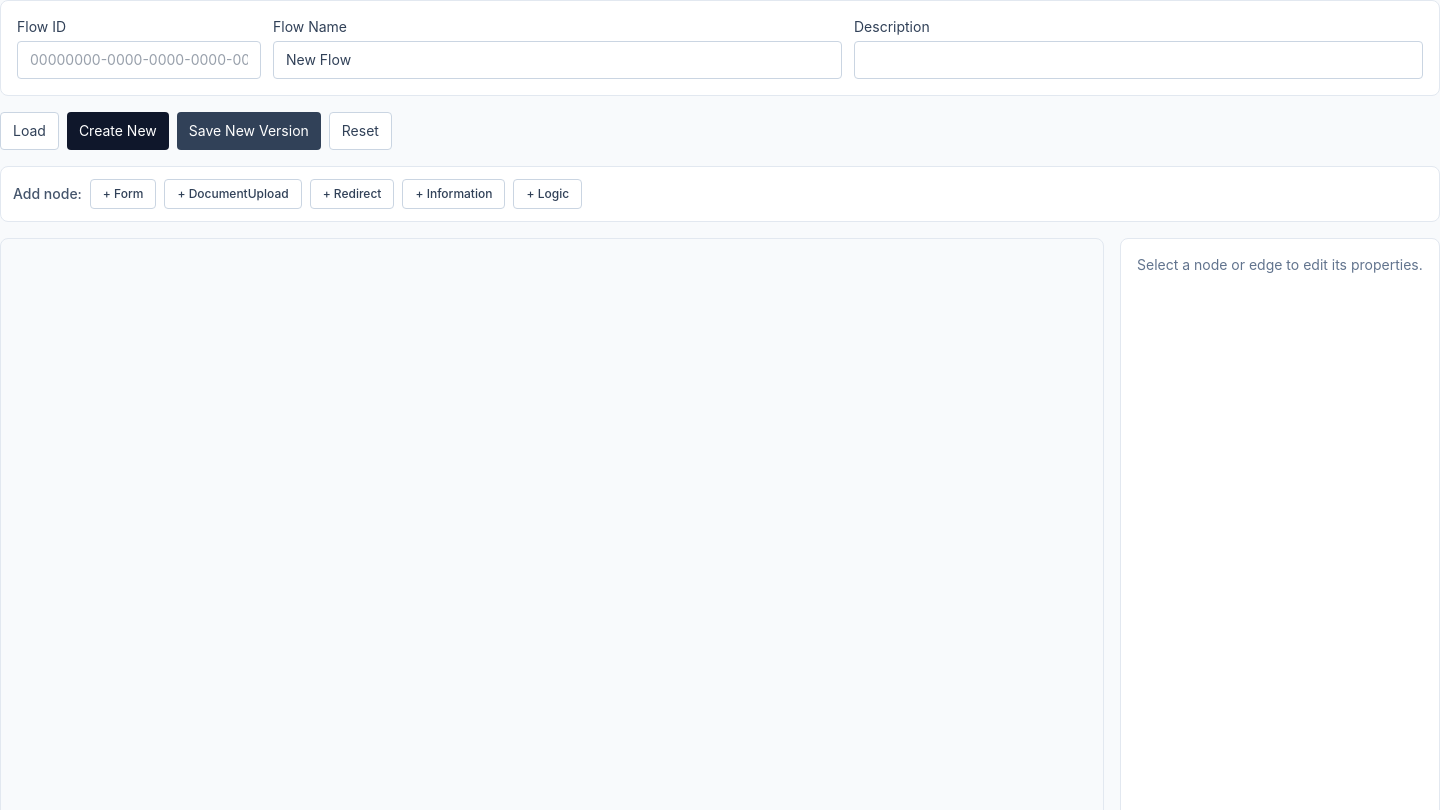
VisualJourneyBuilder › shows error message on load failure
The image size is (1440, 810).
Type "bad-id" into the field with placeholder "00000000-0000-0000-0000-000000000000". click: (139, 60)
box: [17,41,261,79]
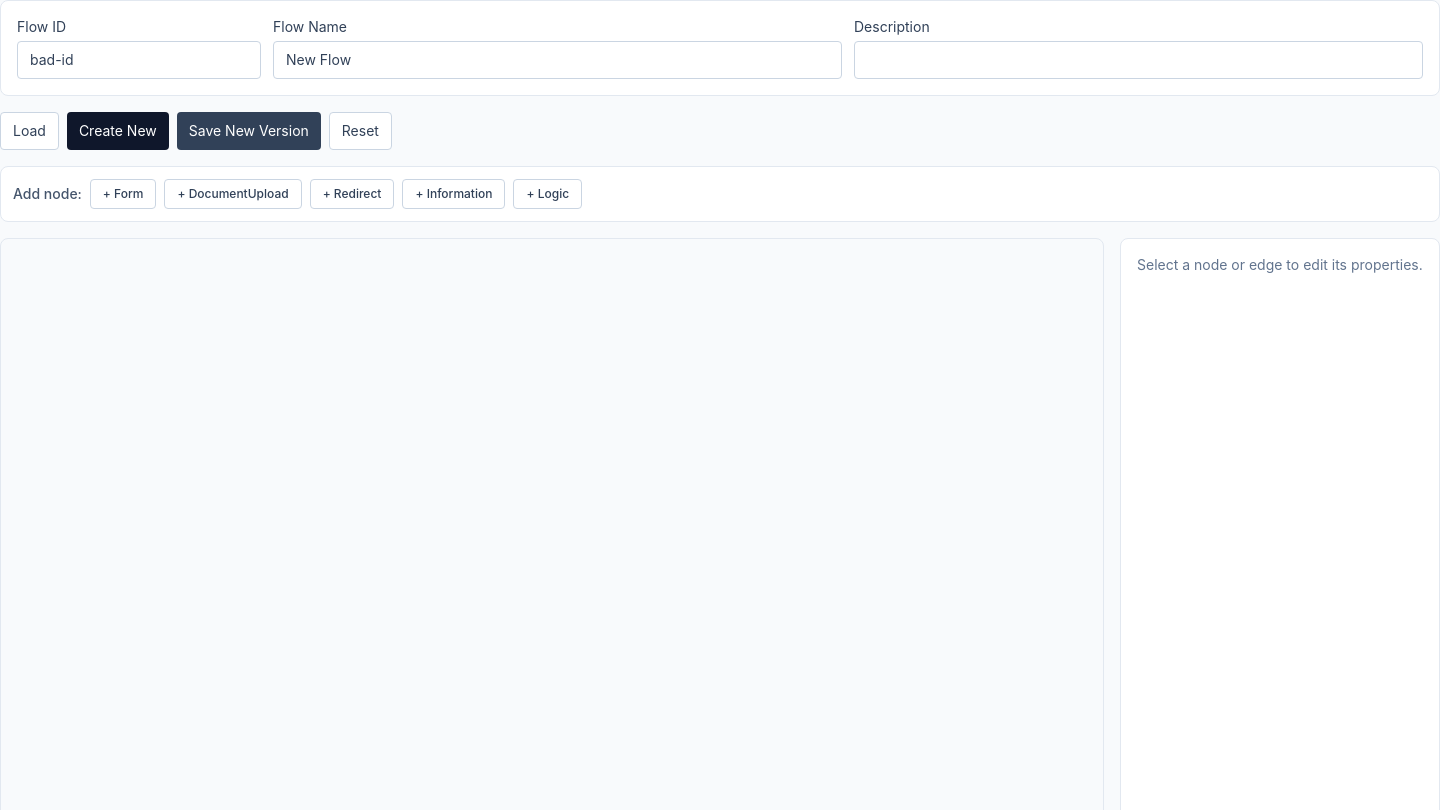
Click the button "Load". click: (29, 131)
box: [0,112,59,150]
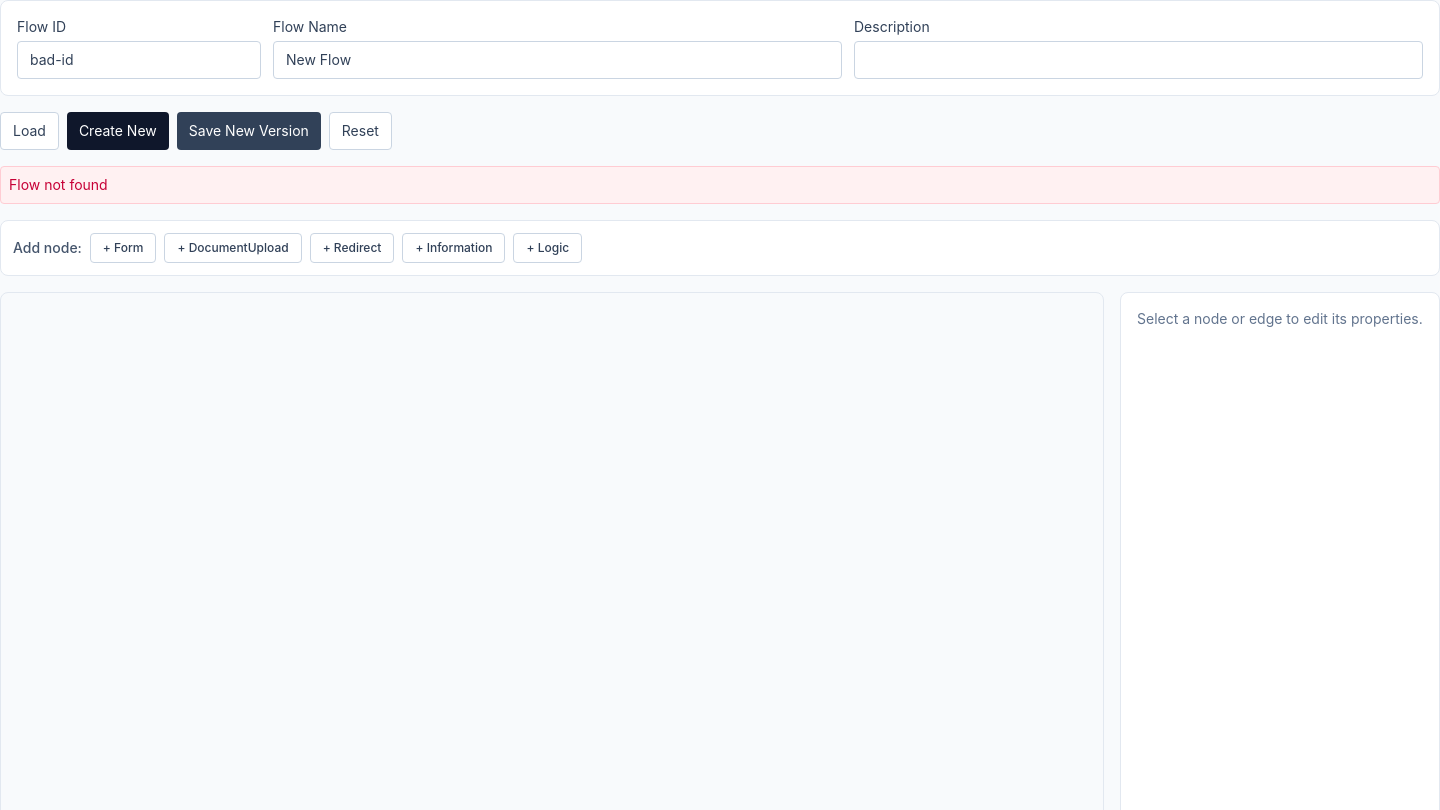
Expected: the message reads "Flow not found", [9,176,108,193]
